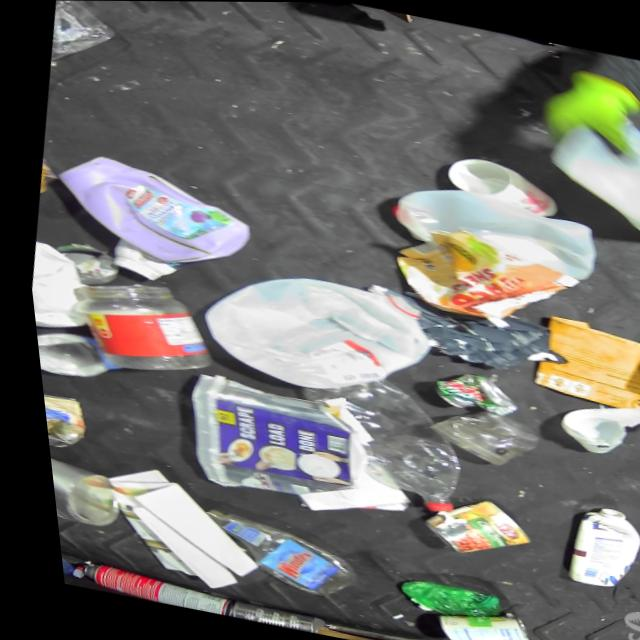can: (403, 487, 527, 566), (61, 560, 224, 617), (39, 446, 117, 529), (420, 365, 517, 419), (415, 599, 523, 640), (44, 238, 119, 291), (219, 598, 316, 635), (34, 386, 85, 454)
milk_jug: (181, 256, 441, 411), (380, 177, 600, 281), (527, 104, 640, 245)
non_white_jug: (38, 147, 260, 278)
plastic_bottle: (274, 363, 469, 515), (47, 535, 78, 581)
